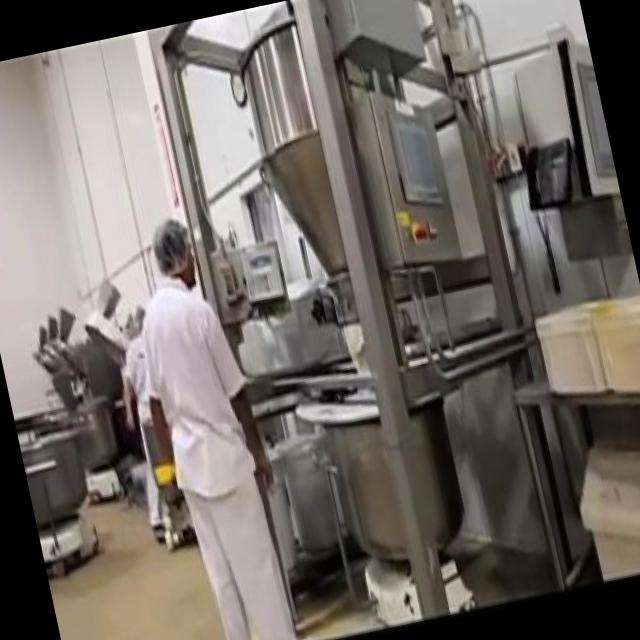hairnet: (144, 217, 193, 274)
